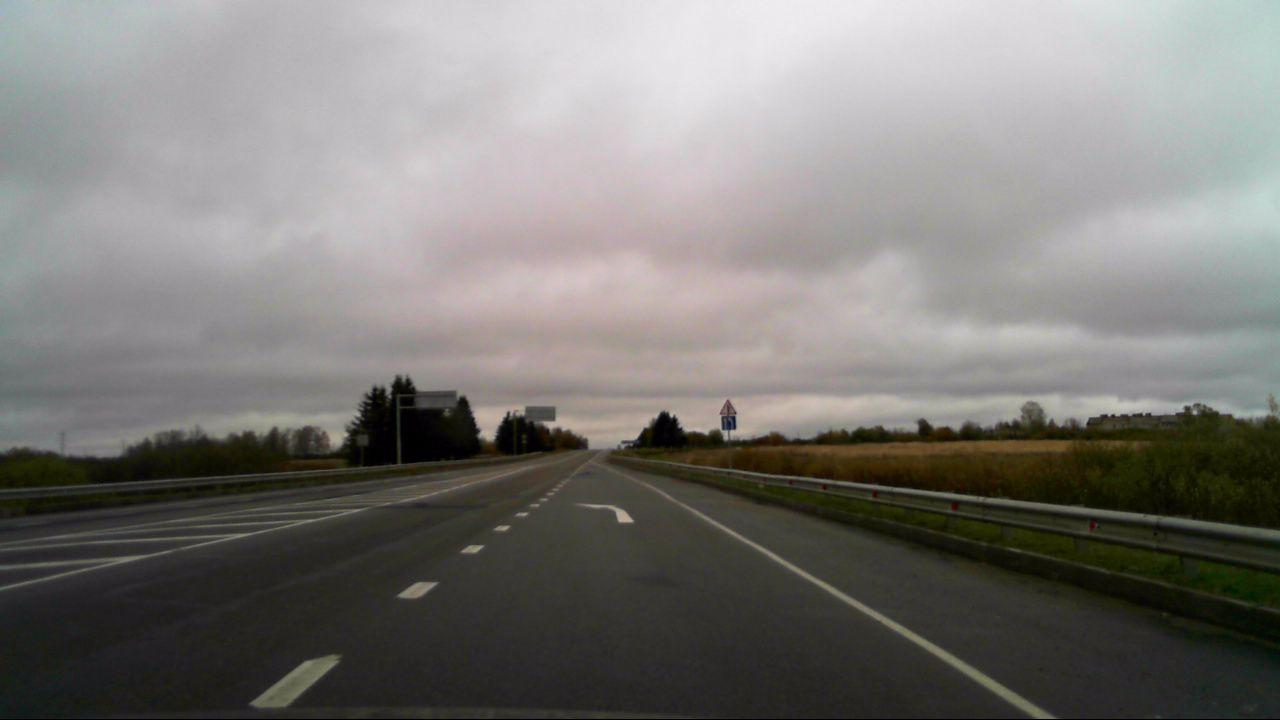2_3_2: (717, 397, 738, 416)
5_15_5: (722, 414, 737, 430)
